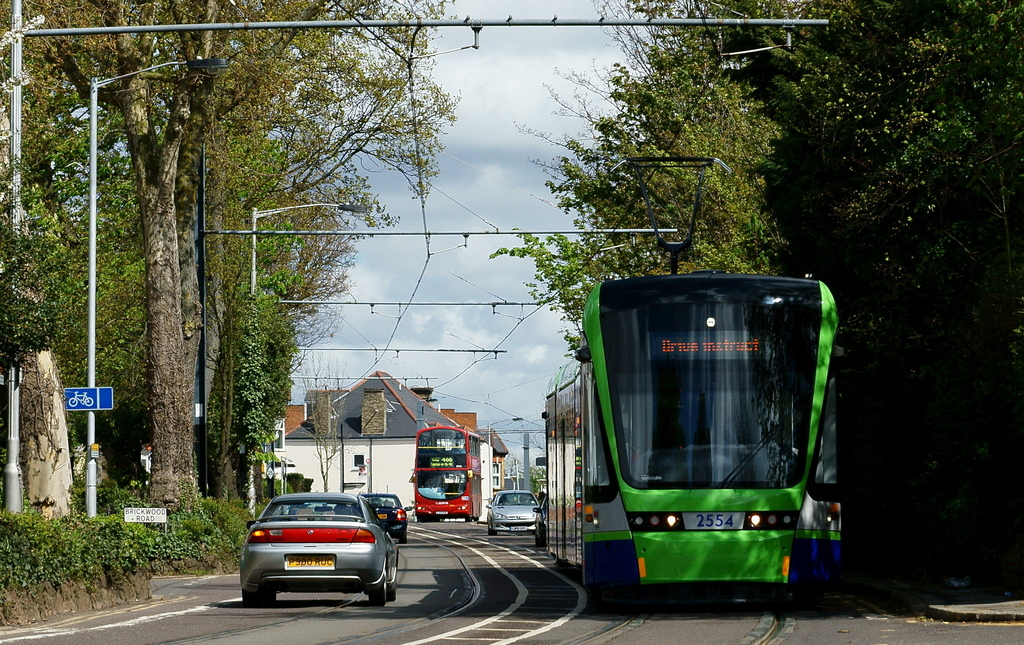Bus: (406, 420, 482, 520)
